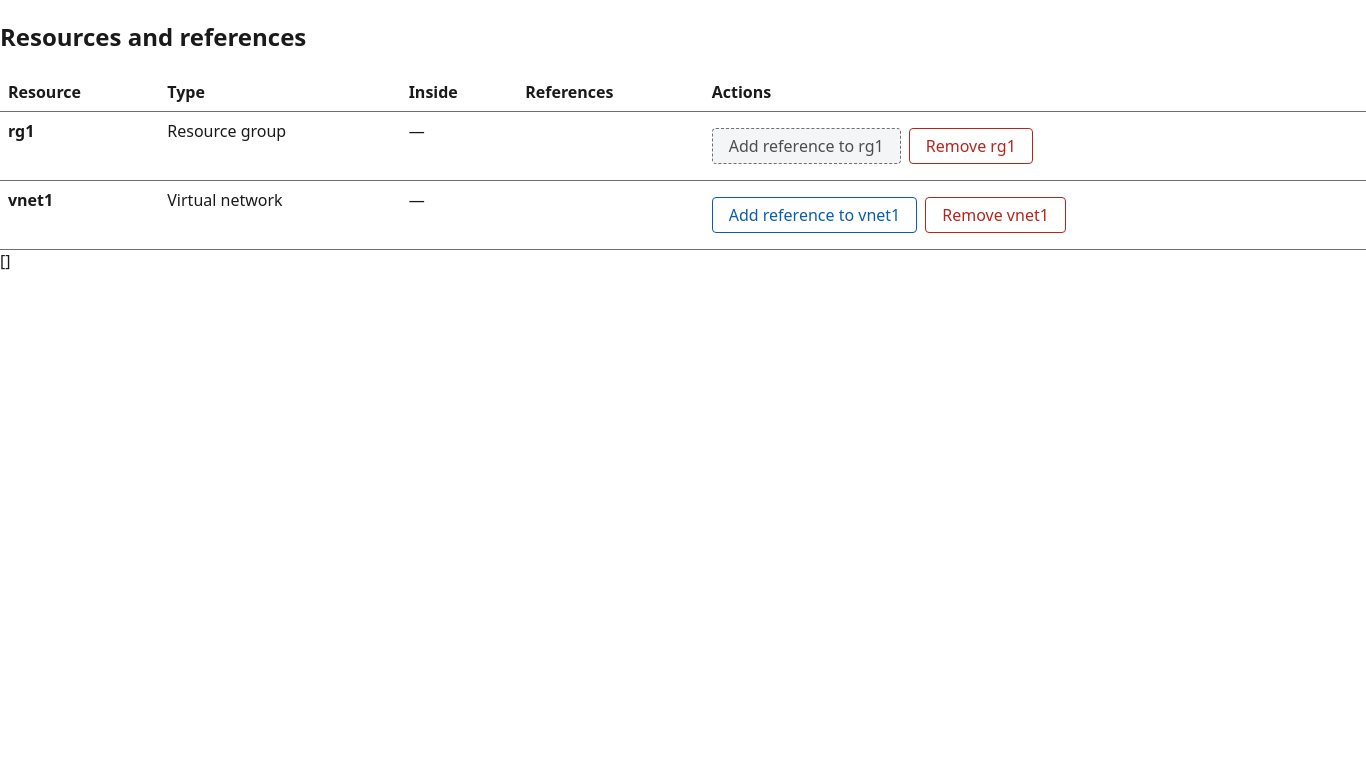
add and remove a reference from the list view
Expected: the button "Add reference to rg1" is disabled, [712,128,901,164]
Click the button "Add reference to vnet1" at point(814, 215), box [712,197,917,233]
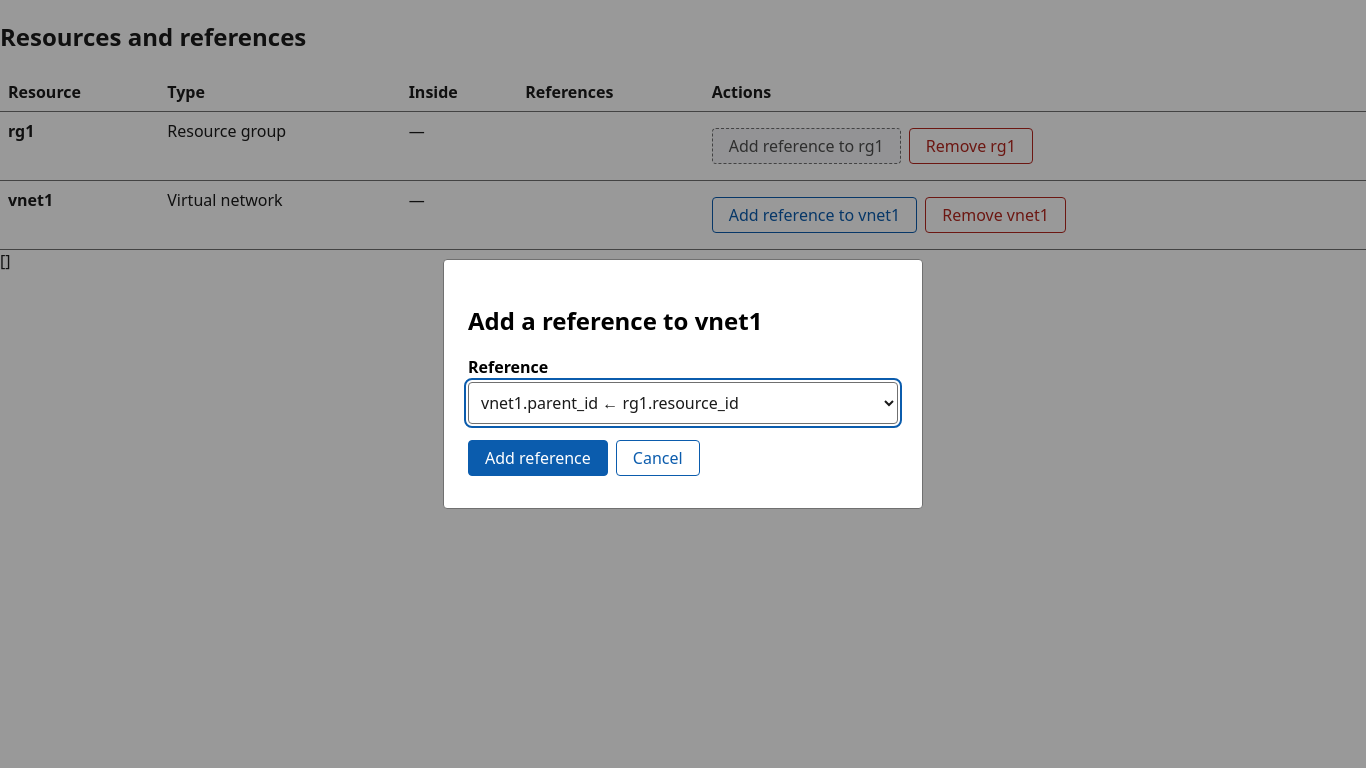
Result: the dropdown labelled "Reference" shows "vnet1.parent_id ← rg1.resource_id" at [468,382,898,424]
Click the button "Add reference" at point(538, 458), box [468,440,608,476]
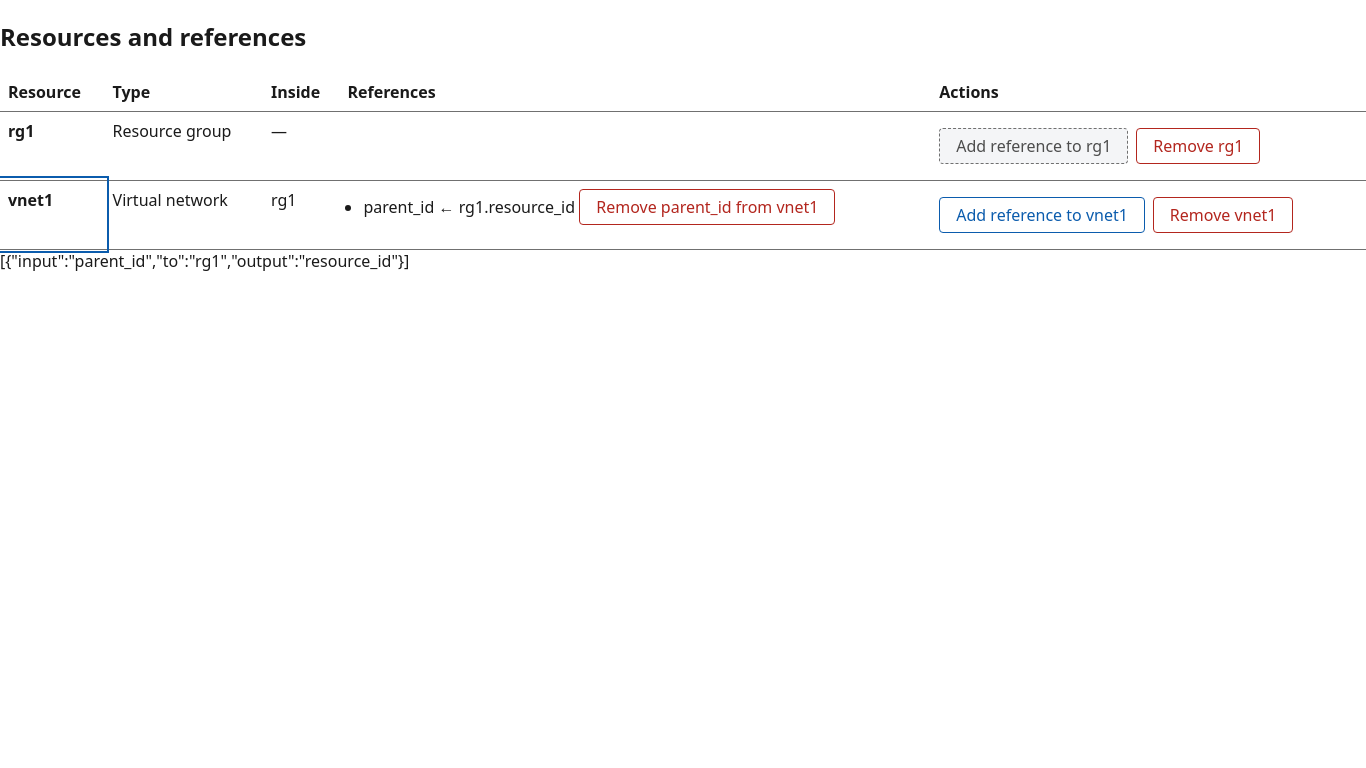
Result: the text named "vnet refs" shows "\"input\":\"parent_id\",\"to\":\"rg1\"" at [0,250,409,272]
Result: the row "vnet1" shows "rg1" at [271,189,296,211]
Click the button "Remove parent_id from vnet1" at point(707, 207), box [579,189,835,225]
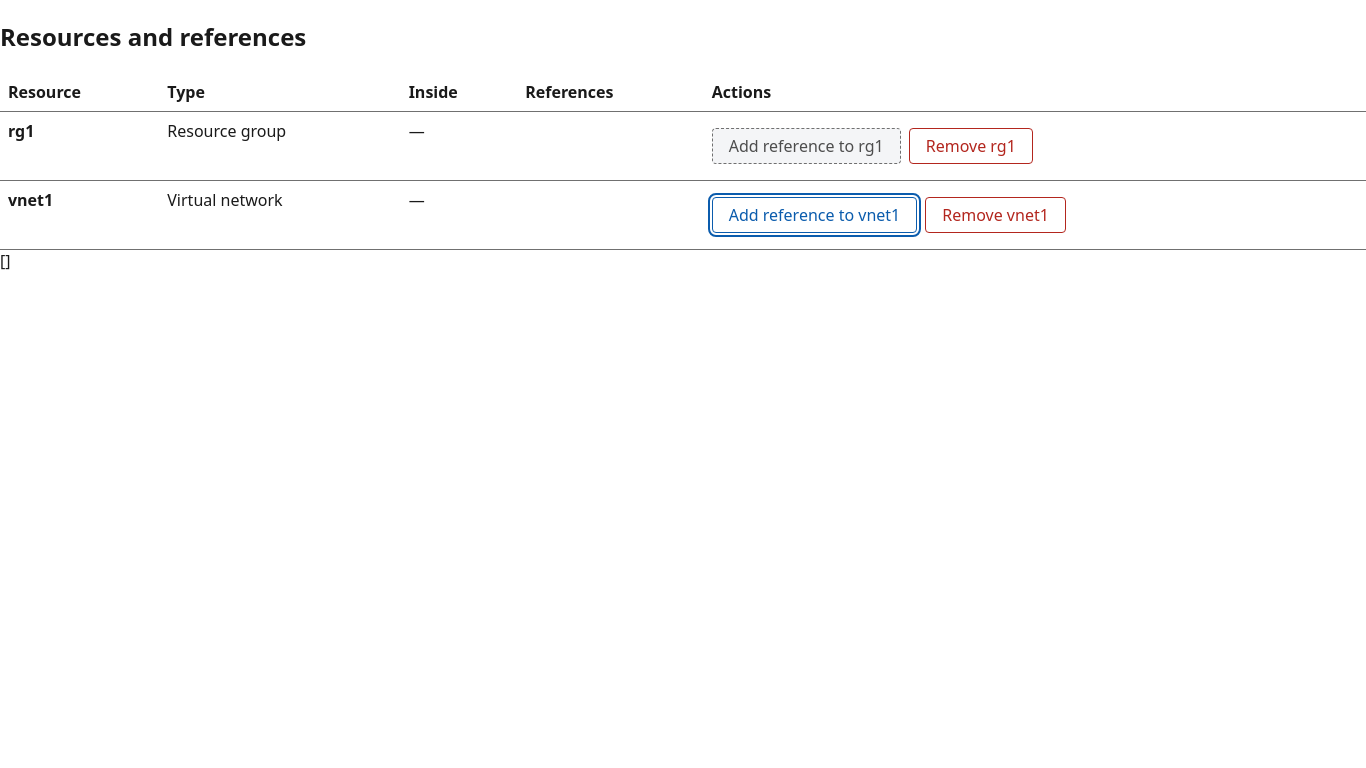
Result: the text named "vnet refs" reads "[]" at [0,250,10,272]
